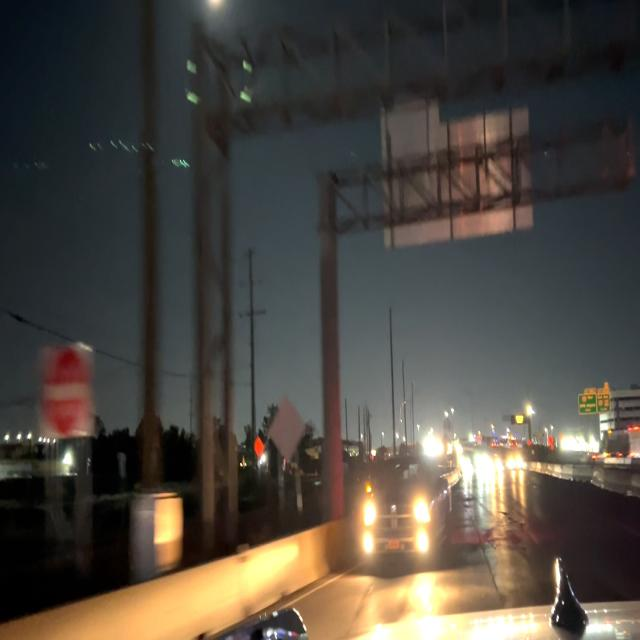back-of-sign: (385, 104, 533, 244)
